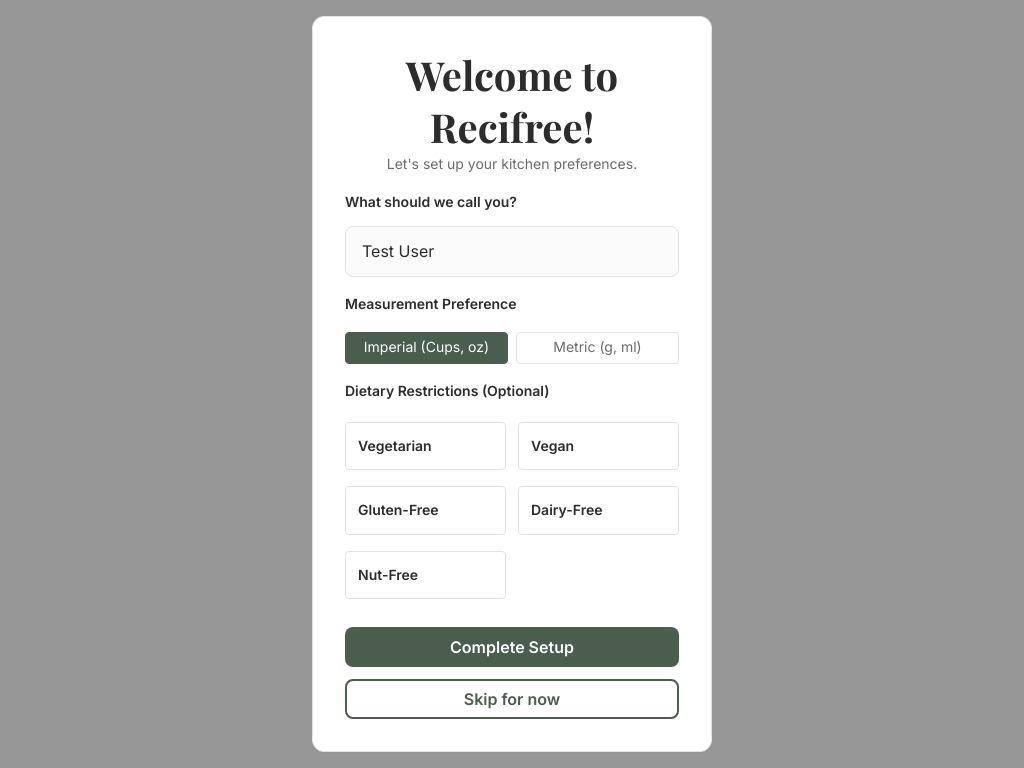
Scenario: OnboardingModal Component › shows loading state during submission
Click the button "Complete Setup". click: [512, 647]
box: [345, 627, 679, 667]
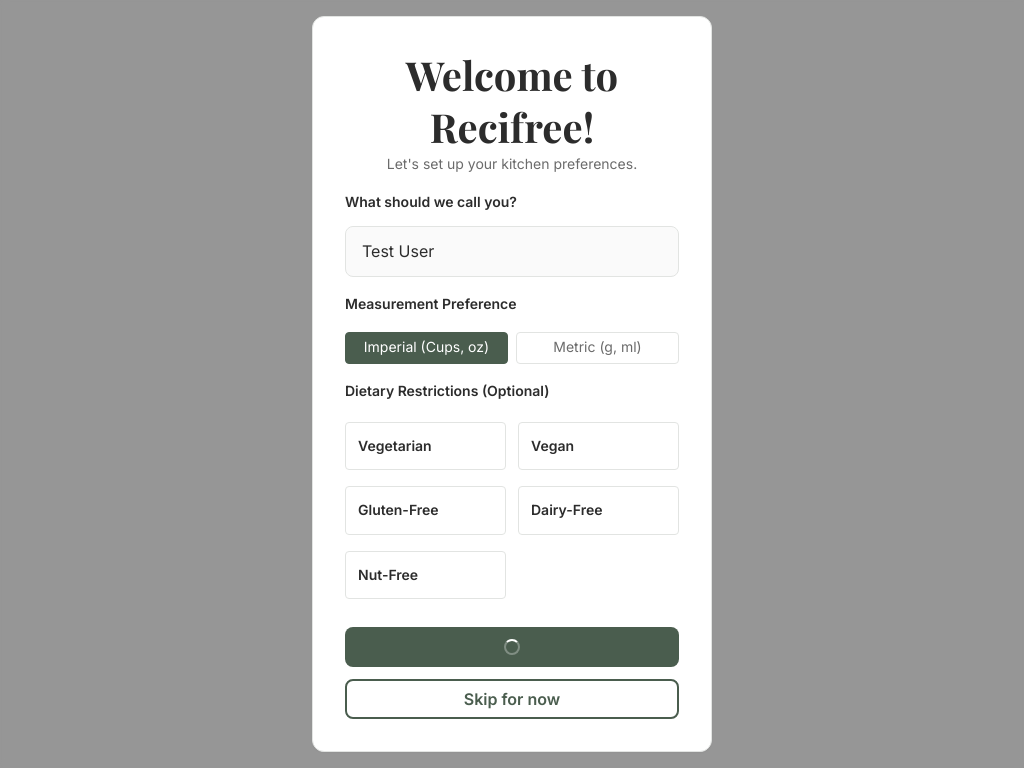
expect the button "Skip for now" is disabled: met, box [345, 679, 679, 719]
expect the 3rd button is disabled: met, box [345, 627, 679, 667]
expect the element with class "spinner" is shown: met, box [504, 639, 520, 655]
